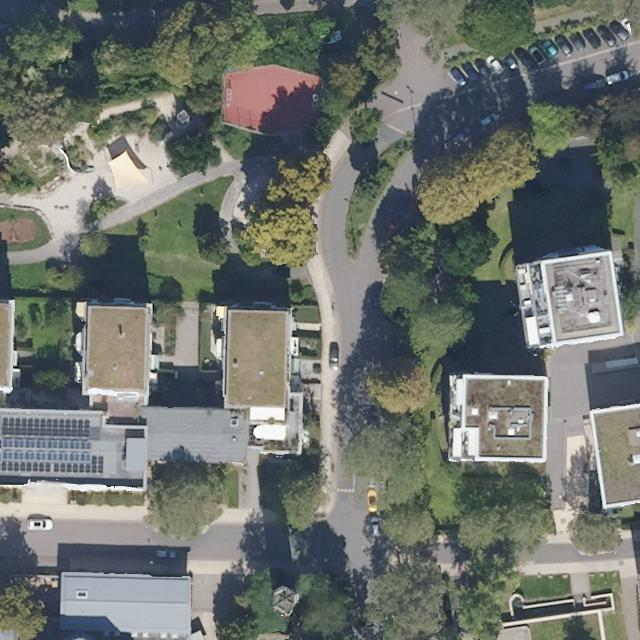PV: (0, 416, 105, 475)
